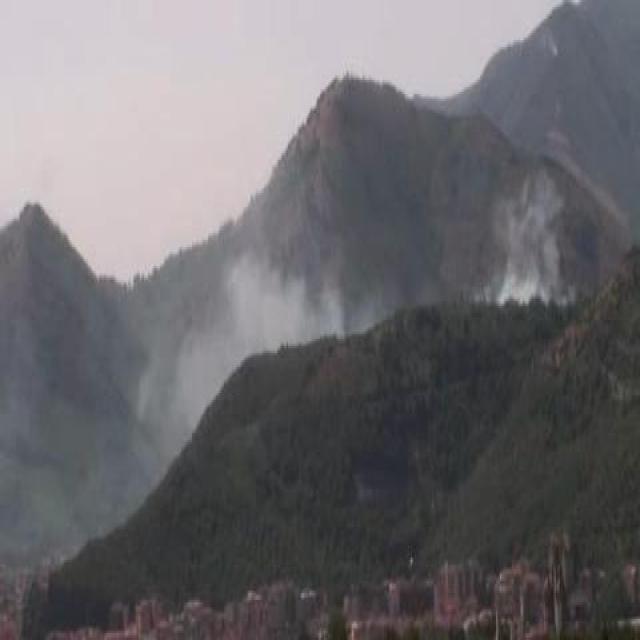Smoke: (178, 263, 346, 353), (491, 169, 569, 306)
